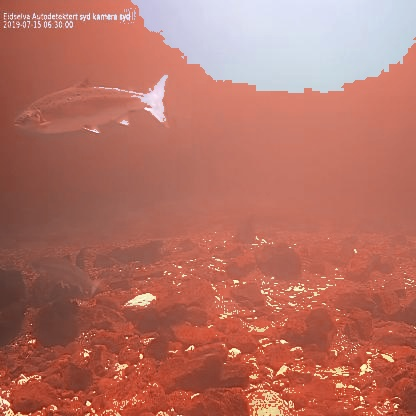salmon: (11, 70, 171, 140), (30, 252, 104, 298)
